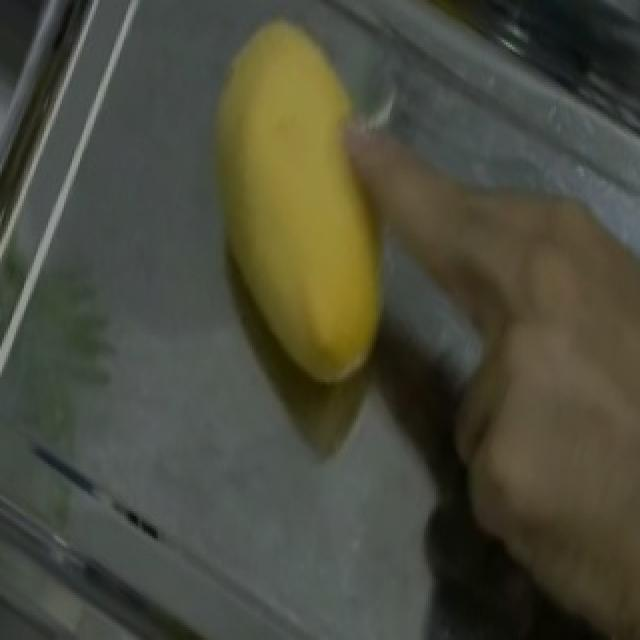fruit: (166, 5, 516, 419)
